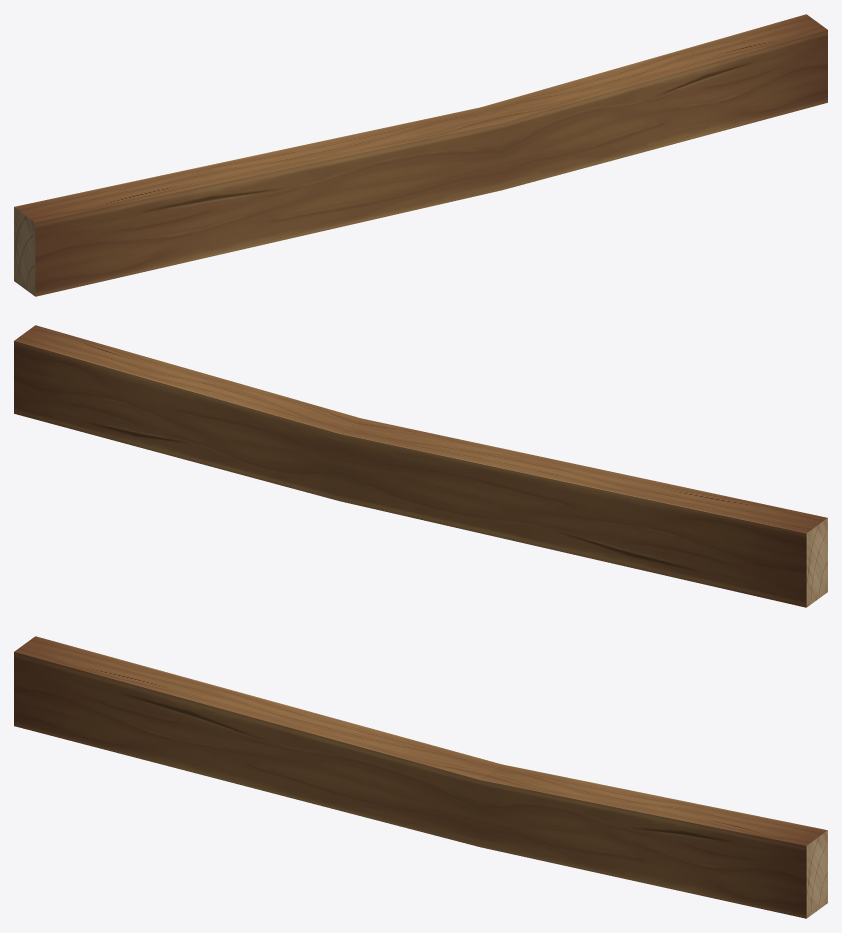
3 renders of one model, top to bottom at view 1: azimuth 30°, elevation 25°; view 2: azimuth 150°, elevation 25°; view 3: azimuth 330°, elevation 25°, orthographic.
Visible parts, largest first — view 1: part_07a:Mesh; view 2: part_07a:Mesh; view 3: part_07a:Mesh.
Part boxes in pixels (<box>): part_07a:Mesh: <box>14,14,827,296</box>; part_07a:Mesh: <box>14,325,827,607</box>; part_07a:Mesh: <box>14,636,827,918</box>.
Bounding box in the file's own units: 6.98 × 0.6862 × 0.3274.
